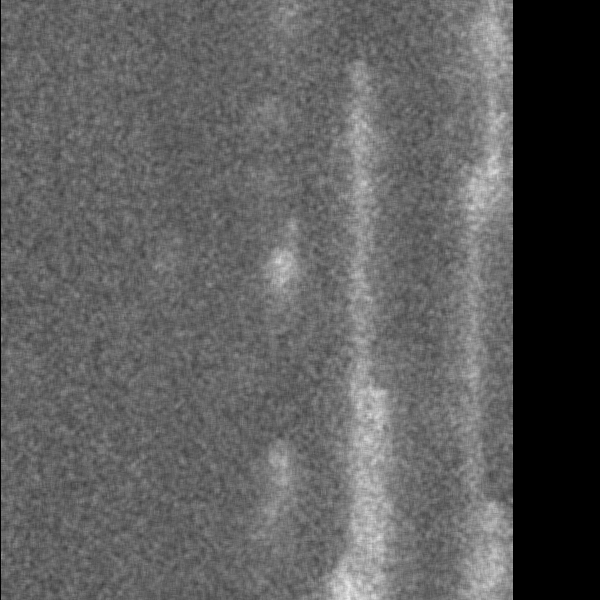spark: (264, 430, 295, 570), (257, 241, 308, 308), (275, 4, 307, 26)
